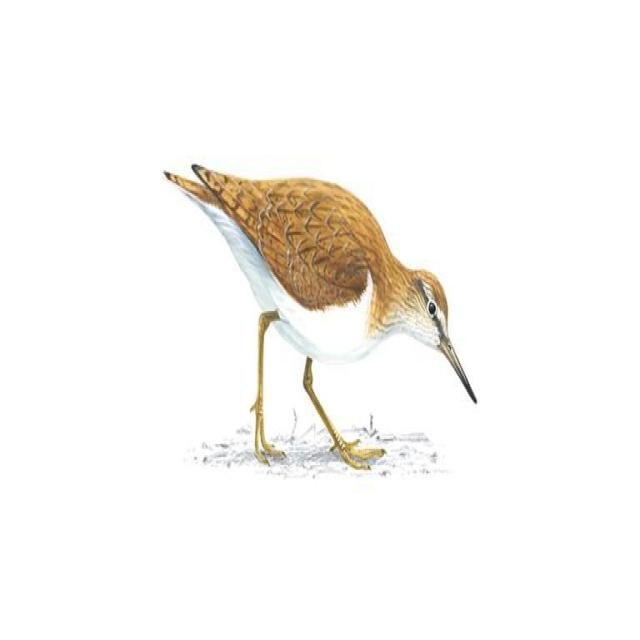sandpiper: (163, 164, 478, 468)
